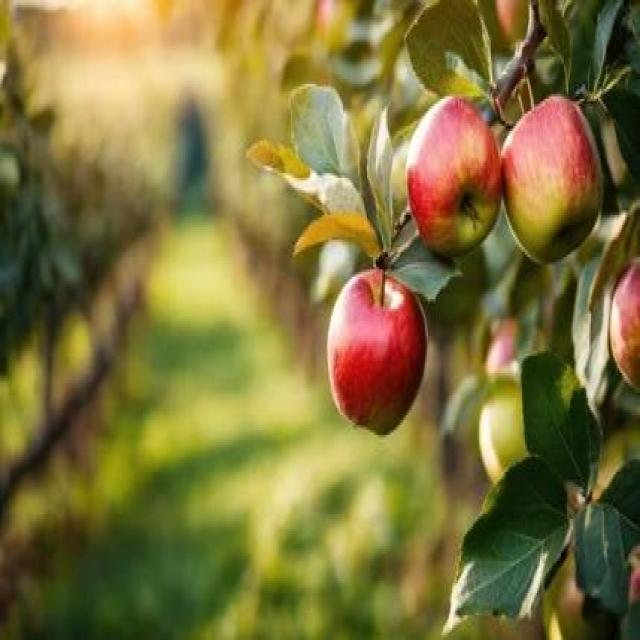fruit: (320, 262, 430, 460), (501, 94, 601, 259), (406, 95, 500, 253), (468, 0, 546, 113), (537, 536, 620, 640), (584, 423, 640, 562), (478, 383, 528, 482), (608, 257, 640, 411), (486, 316, 520, 376), (494, 0, 531, 42), (626, 557, 640, 607)
